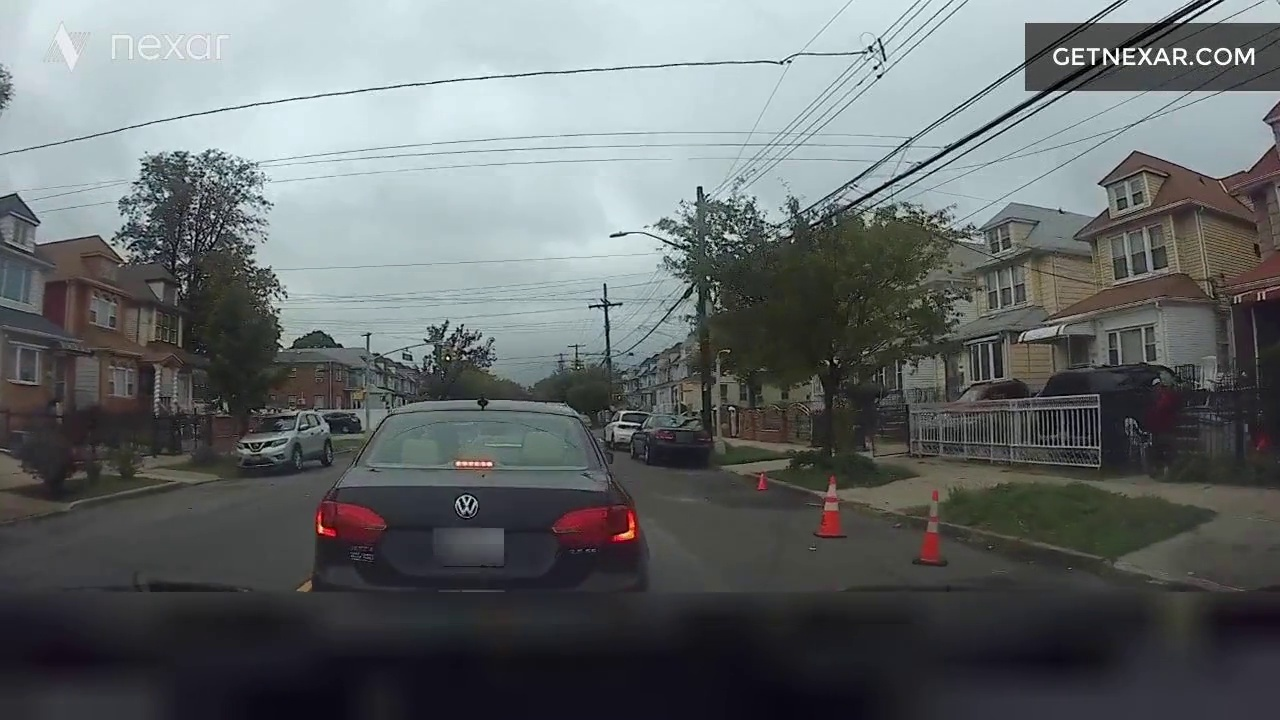car: (340, 385, 604, 666), (965, 332, 1158, 476), (189, 407, 342, 500), (610, 387, 722, 493)
person: (1126, 352, 1180, 461)
traffic light: (417, 332, 474, 373)
